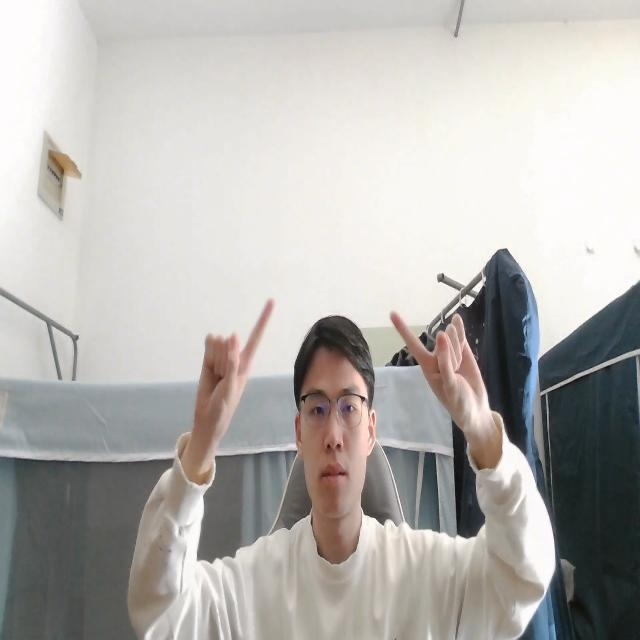one: (184, 290, 282, 463), (388, 301, 500, 452)
